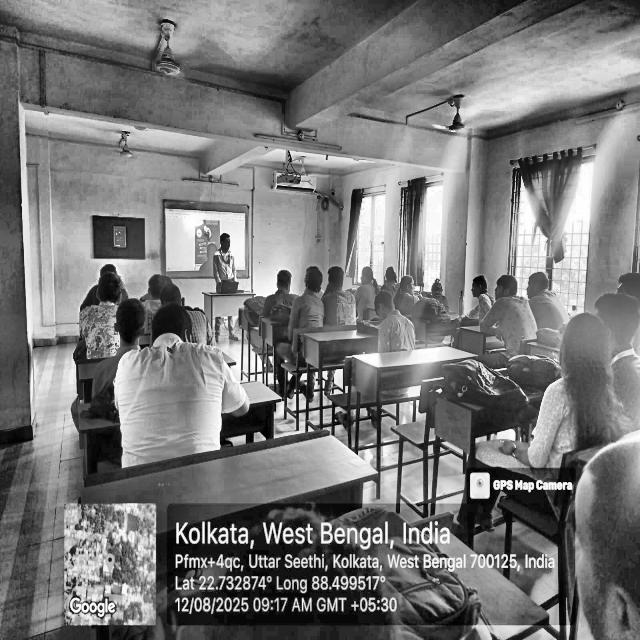Focus: (574, 272, 640, 428), (483, 260, 578, 342), (268, 252, 354, 328), (104, 286, 158, 398), (368, 263, 462, 324), (212, 206, 257, 294)
Not Focus: (55, 243, 248, 452), (366, 275, 406, 339), (456, 268, 494, 328)
